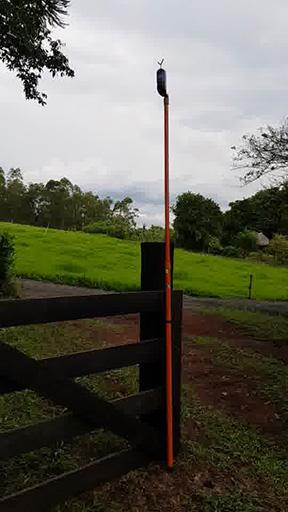Detector_Tensao_Contato: (156, 58, 168, 96)
Vara_Manobra: (163, 95, 176, 469)
